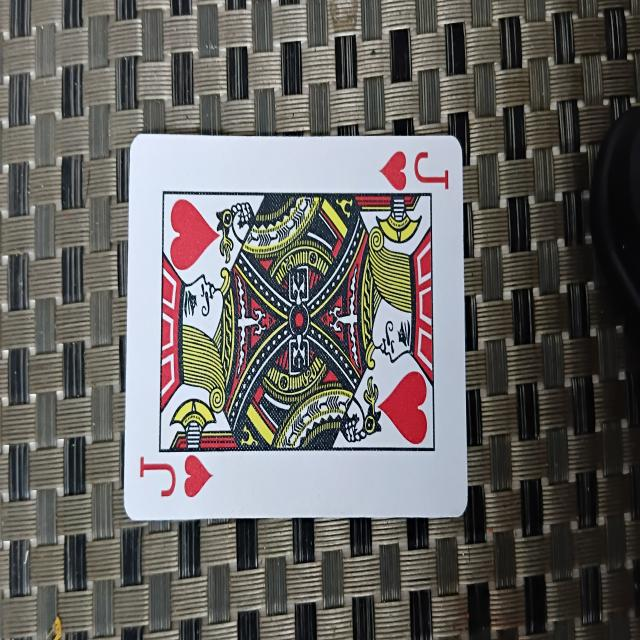JH: (123, 128, 465, 522)
